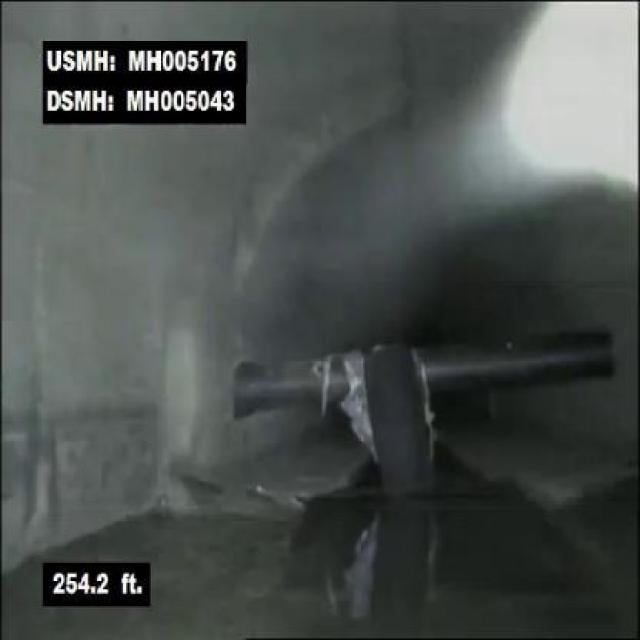Utility intrusion: (231, 331, 615, 417)
